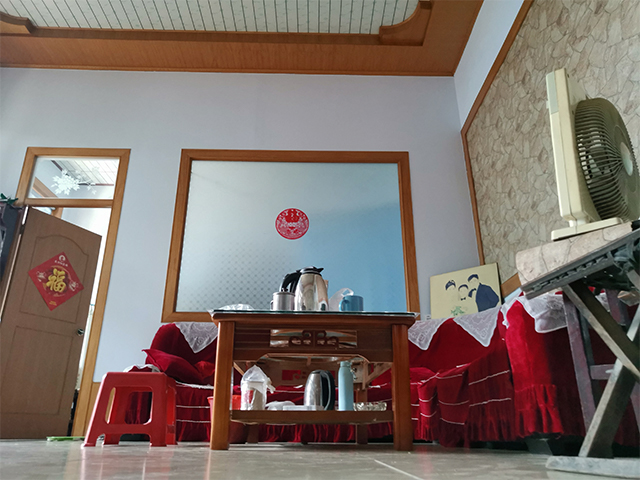sofa: (123, 287, 638, 456)
stool: (515, 228, 640, 478), (81, 370, 180, 448)
table: (206, 308, 420, 451)
